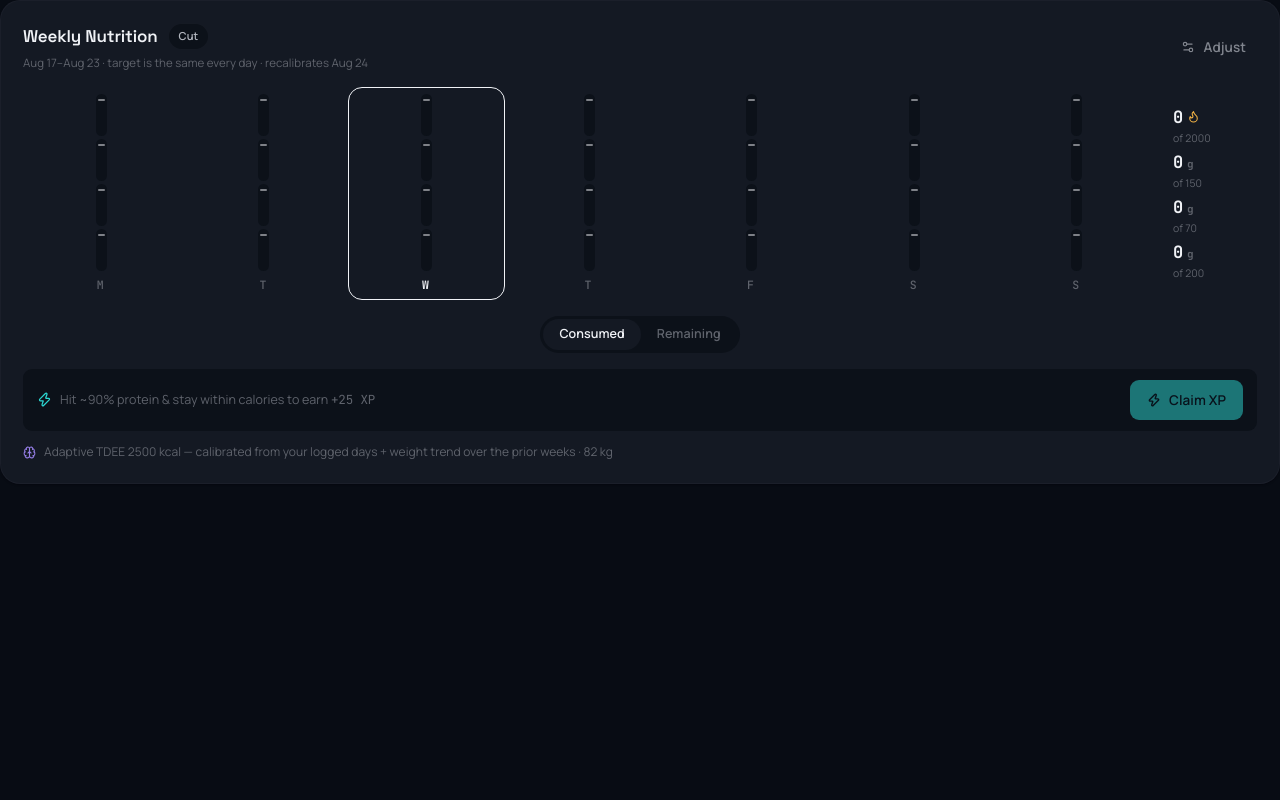
Test: WeeklyNutritionChart › does not save 0 when a numeric setting is cleared, and restores the saved value
Click the button "Adjust".
click(1214, 47)  # box [1170, 30, 1257, 64]
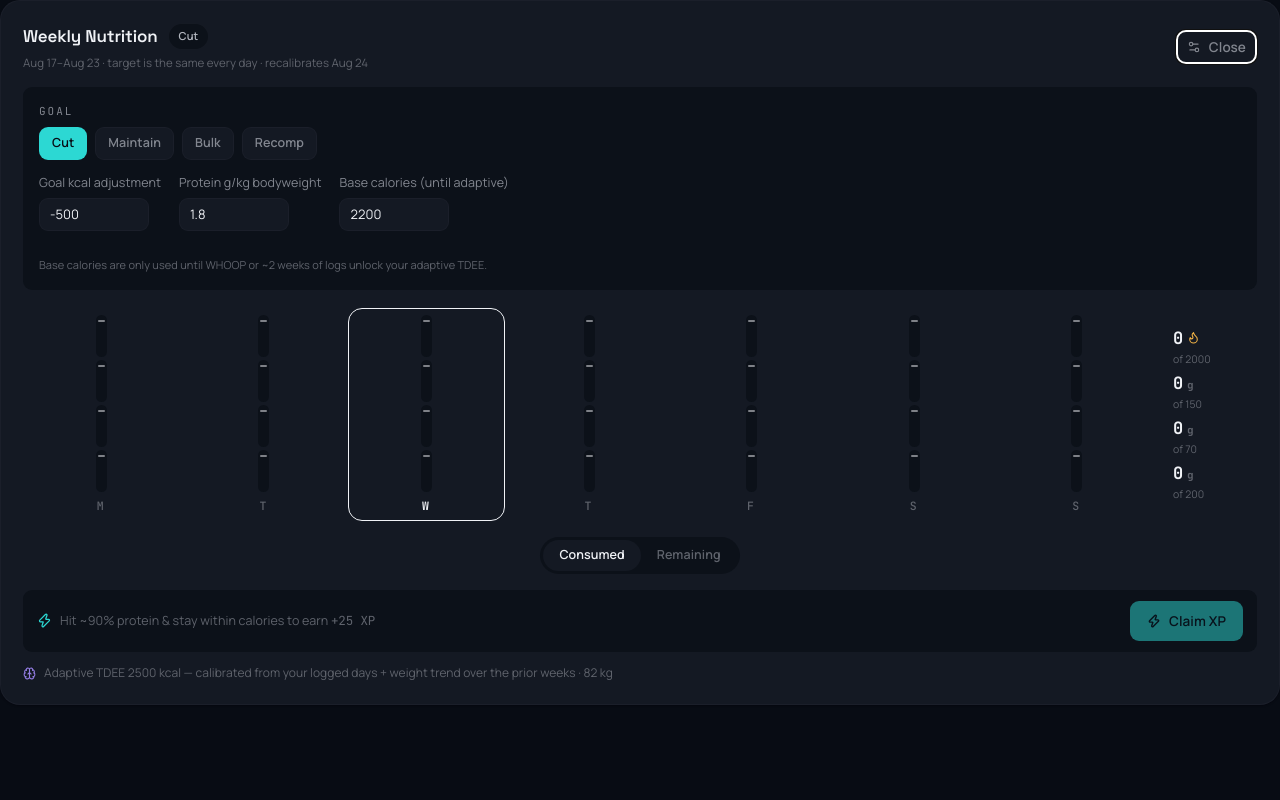
Clear the number field labelled "Protein g/kg bodyweight" at (234, 215), box [179, 198, 289, 231]
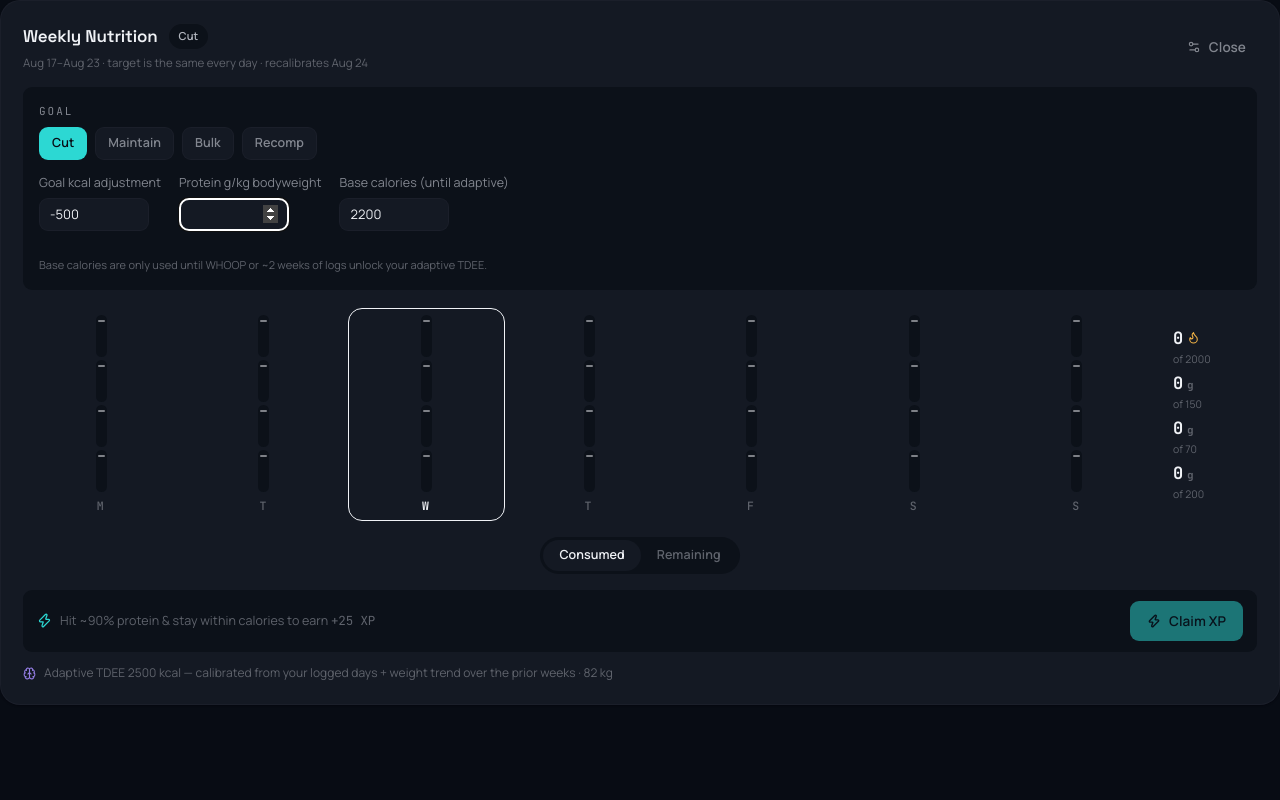
Press Tab
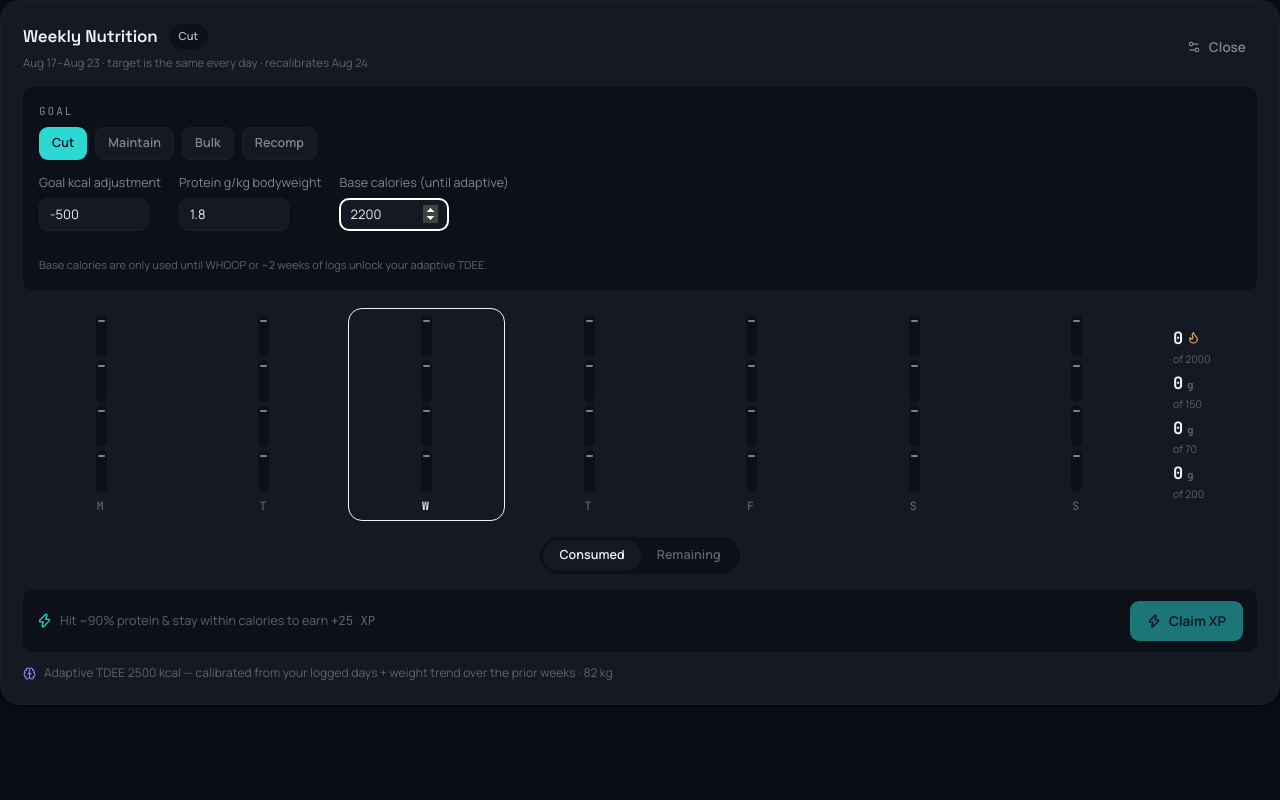
Result: the number field labelled "Protein g/kg bodyweight" holds "1.8" at [179, 198, 289, 231]
